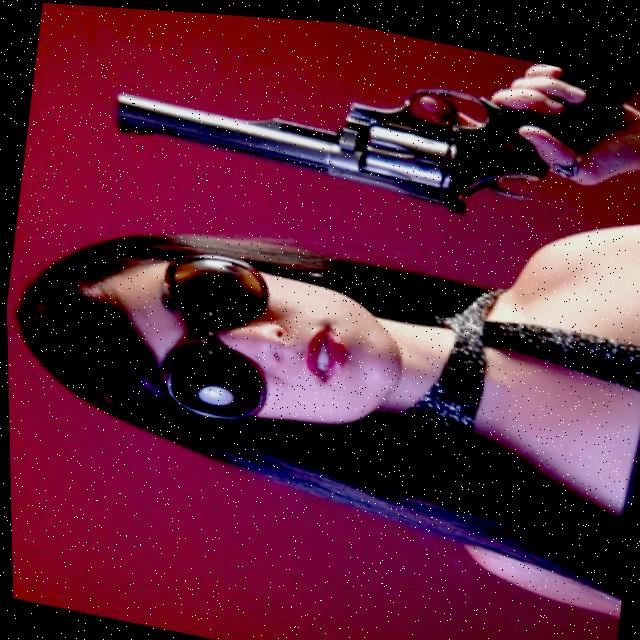pistol: (100, 17, 553, 227)
